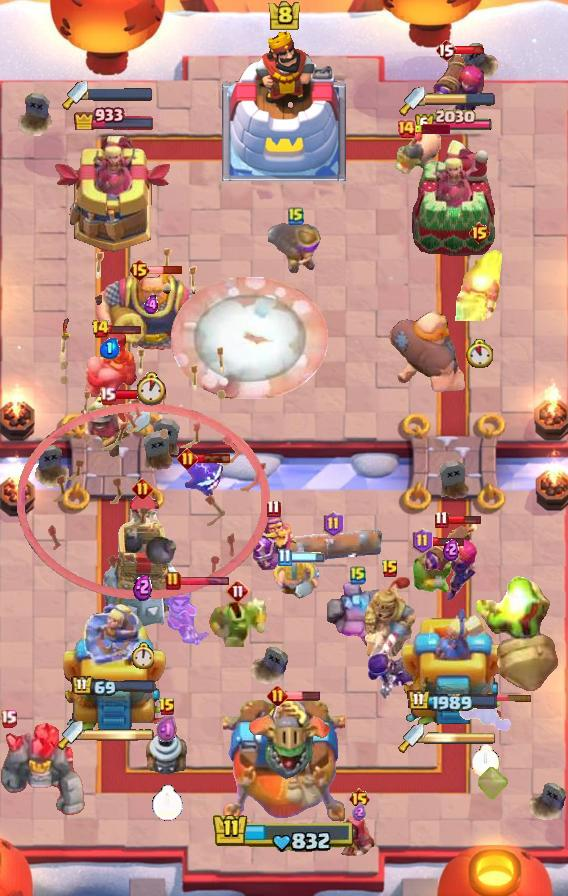bar: (178, 576, 230, 587), (479, 693, 533, 702), (285, 690, 321, 702), (113, 389, 149, 401), (430, 535, 465, 547), (289, 552, 325, 563), (446, 514, 482, 525), (196, 453, 231, 464), (107, 324, 142, 335), (414, 124, 450, 134), (148, 265, 183, 275), (455, 45, 487, 55)
bar-level: (226, 579, 250, 603), (348, 787, 371, 811), (128, 258, 151, 282), (468, 221, 491, 245), (412, 528, 433, 554), (323, 511, 344, 537), (435, 38, 457, 62), (267, 685, 288, 706), (132, 478, 153, 499), (177, 448, 198, 469), (396, 119, 416, 139), (91, 319, 110, 339), (158, 697, 176, 717), (381, 559, 399, 579), (0, 709, 17, 728), (99, 386, 116, 405), (165, 571, 181, 591), (350, 565, 366, 585), (288, 206, 304, 226), (277, 548, 292, 567), (434, 510, 449, 529), (266, 499, 281, 518)
bat-evolution: (458, 700, 514, 734)
bomber-evolution: (365, 643, 425, 701)
clock: (135, 372, 168, 406), (152, 785, 183, 821), (472, 744, 500, 777), (466, 339, 493, 368), (131, 642, 154, 669)
dagger-duchess-tower: (52, 132, 176, 256), (59, 595, 169, 731), (401, 601, 505, 731), (409, 138, 497, 256)
dagger-duchess-tower-bar: (424, 731, 496, 745), (83, 728, 155, 742), (425, 93, 495, 107), (88, 88, 152, 101)
electro-spirit: (184, 454, 226, 500)
elite-barbarian: (272, 556, 320, 599)
elixir: (156, 715, 179, 744), (133, 573, 152, 601), (100, 338, 120, 359), (443, 538, 459, 561), (144, 295, 159, 315), (352, 803, 366, 821)
evolution-symbol: (478, 765, 510, 801)
firecracker-evolution: (421, 518, 481, 604), (432, 48, 486, 122)
goblin-brawler: (208, 597, 268, 647), (412, 545, 454, 595)
golemite: (327, 575, 389, 651)
king-tower: (222, 31, 346, 181), (223, 698, 345, 826)
king-tower-bar: (212, 812, 356, 854)
knight-evolution: (251, 512, 296, 571)
little-prince: (161, 583, 210, 649)
miner: (82, 393, 152, 459)
musketeer: (268, 218, 324, 278)
ram-rider: (80, 327, 140, 401)
royal-hog: (395, 130, 441, 174)
the-log: (282, 528, 384, 564)
tower-bar: (407, 689, 499, 714), (73, 104, 156, 130), (71, 675, 157, 698), (414, 109, 493, 134)
wizard: (453, 249, 505, 321), (341, 813, 377, 859)
zappy: (144, 722, 190, 776)
